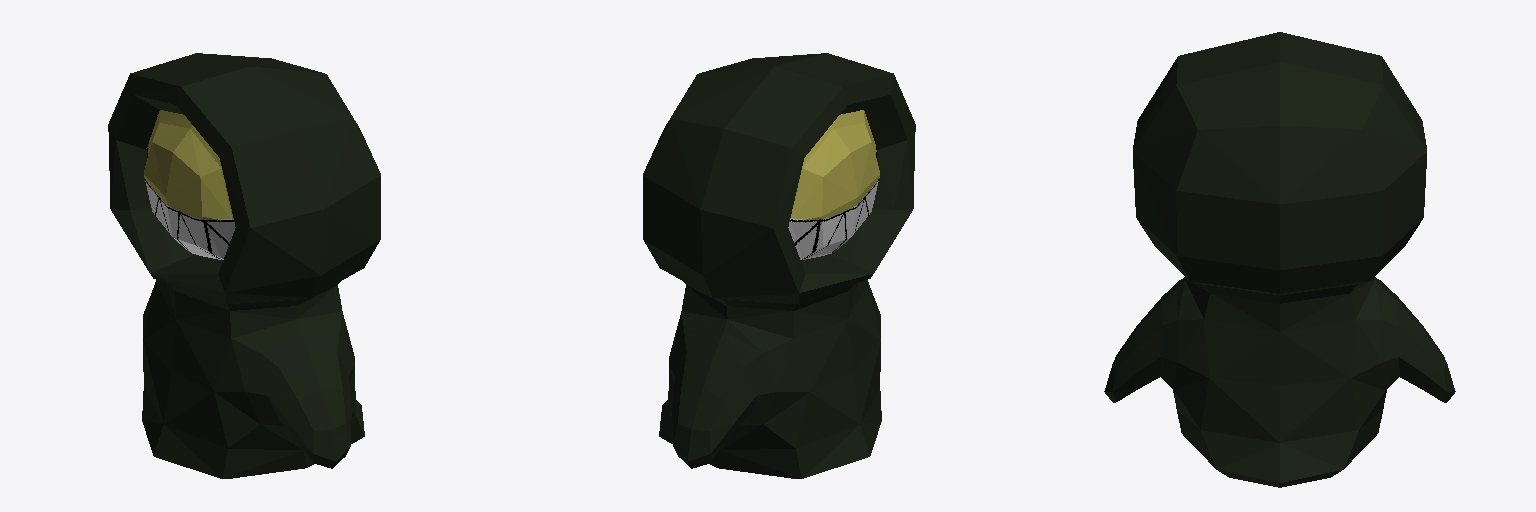
3 renders of one model, left to right at view 1: azimuth 30°, elevation 25°; view 2: azimuth 150°, elevation 25°; view 3: azimuth 270°, elevation 25°, orthographic.
Parts seen in each view (by area): view 1: 立方体; view 2: 立方体; view 3: 立方体.
Boxes of the visible parts, x1=… form: 立方体: x1=108, y1=53, x2=380, y2=478; 立方体: x1=643, y1=53, x2=915, y2=478; 立方体: x1=1104, y1=32, x2=1455, y2=487.
Bounding box in the file's own units: 2.27 × 3.91 × 3.26.
1 materials, 1 textured.